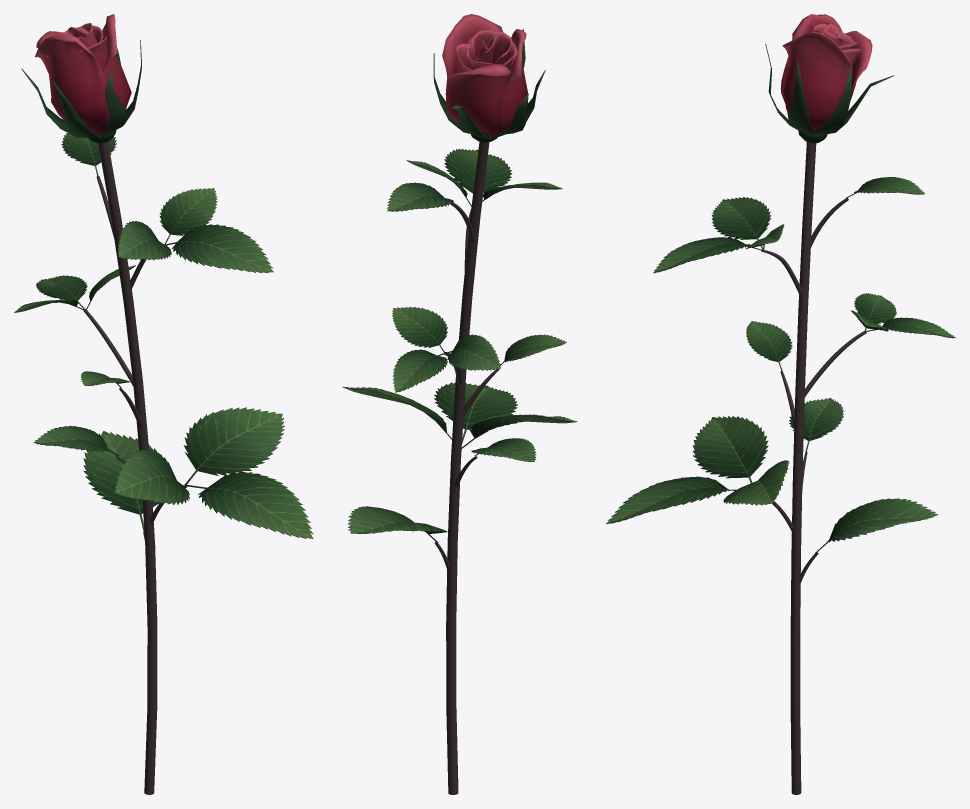
Rendered from ClosedRose.fbx.
3 renders of one model, left to right at view 1: azimuth 30°, elevation 25°; view 2: azimuth 150°, elevation 25°; view 3: azimuth 270°, elevation 25°, orthographic. The views are drawn at different scales.
Parts seen in each view (by area): view 1: LeavesGroup.003, Bud.001, NurbsPath.006, NurbsPath.007; view 2: LeavesGroup.003, Bud.001, NurbsPath.006, NurbsPath.007; view 3: LeavesGroup.003, Bud.001, NurbsPath.006, NurbsPath.007.
Part boxes in pixels (x1,y1,x2,y2): LeavesGroup.003: (14,133,313,538); Bud.001: (21,14,141,143); NurbsPath.006: (98,141,157,794); NurbsPath.007: (83,176,186,540); LeavesGroup.003: (342,148,577,542); Bud.001: (433,14,545,142); NurbsPath.006: (446,142,489,794); NurbsPath.007: (434,202,499,571); LeavesGroup.003: (606,177,955,553); Bud.001: (765,14,893,143); NurbsPath.006: (790,142,816,794); NurbsPath.007: (761,198,866,584).
Size of the model in its own units: 32.26 by 108 by 45.61.
